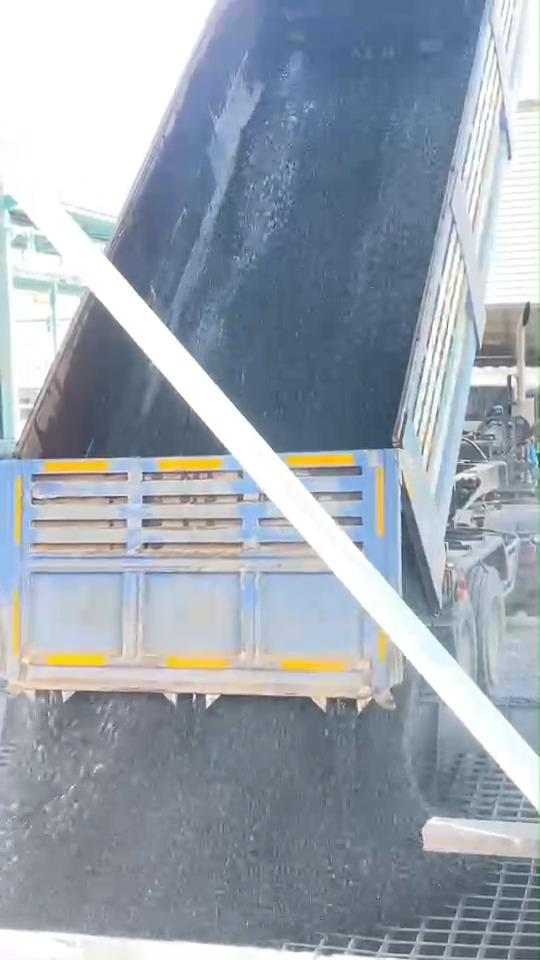gravel: (168, 0, 483, 452), (0, 696, 462, 944), (130, 374, 217, 453)
